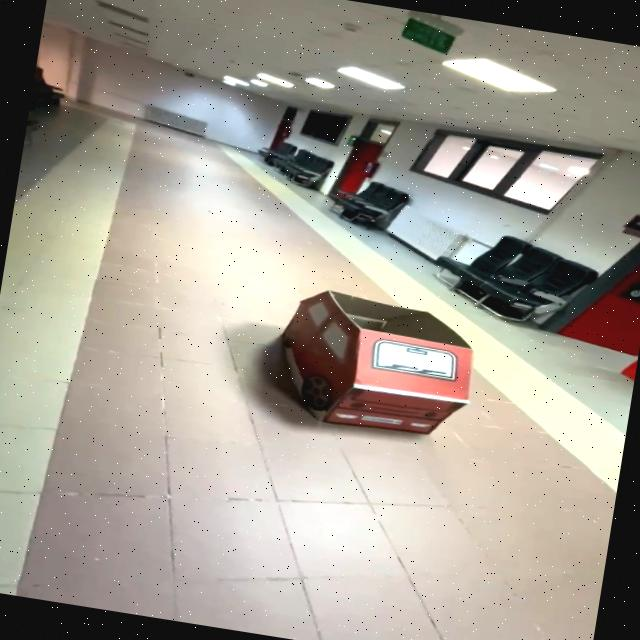red_car: (233, 266, 517, 472)
